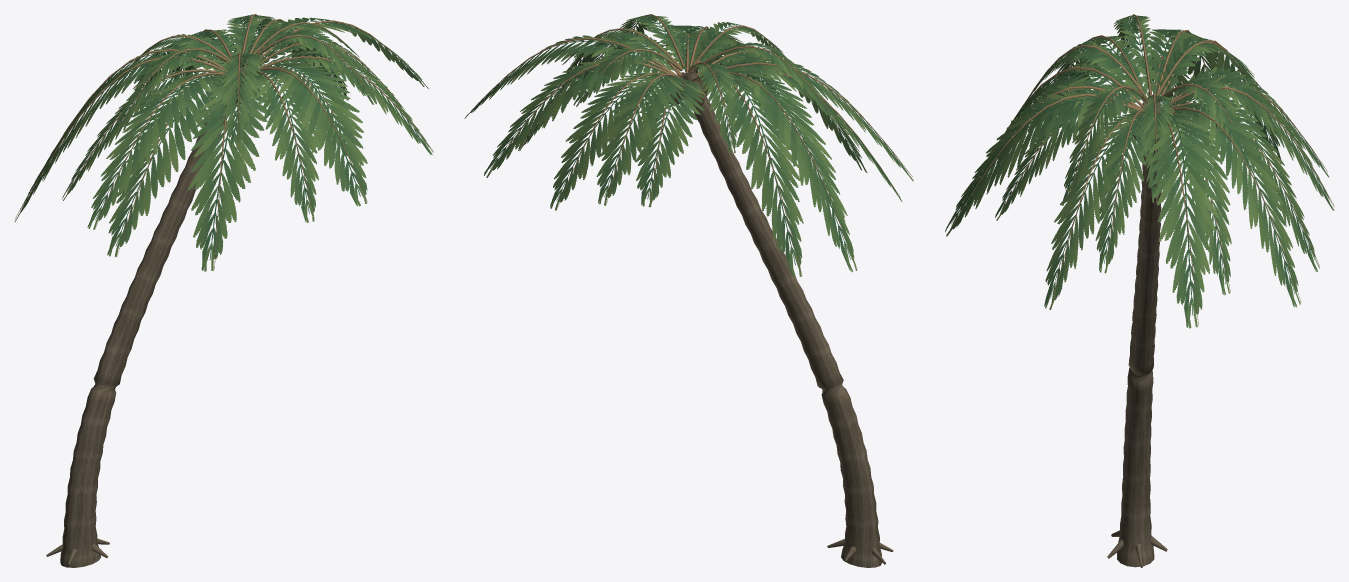
The model's file is coconut_palm_curved.glb.
3 views of the same model, side by side, from view 1: azimuth 30°, elevation 25°; view 2: azimuth 150°, elevation 25°; view 3: azimuth 270°, elevation 25° (orthographic). The views are drawn at different scales.
Visible parts, largest first — view 1: coconut_palm_curved; view 2: coconut_palm_curved; view 3: coconut_palm_curved.
Part boxes in pixels (x1,y1,x2,y2): coconut_palm_curved: [14, 14, 433, 567]; coconut_palm_curved: [464, 14, 913, 567]; coconut_palm_curved: [945, 14, 1334, 567].
Size of the model in its own units: 6.8 by 7.8 by 4.6.
Materials: 2 (2 with a texture image).
